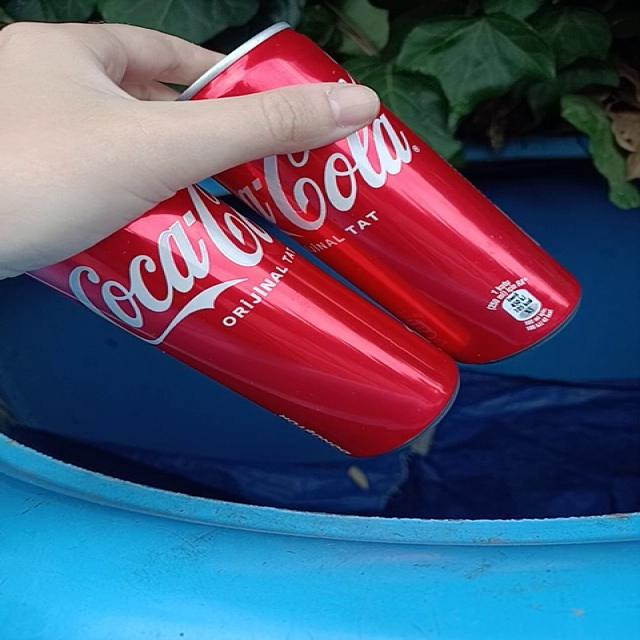bin: (3, 139, 640, 640)
metal: (31, 109, 581, 458), (181, 24, 352, 98)
